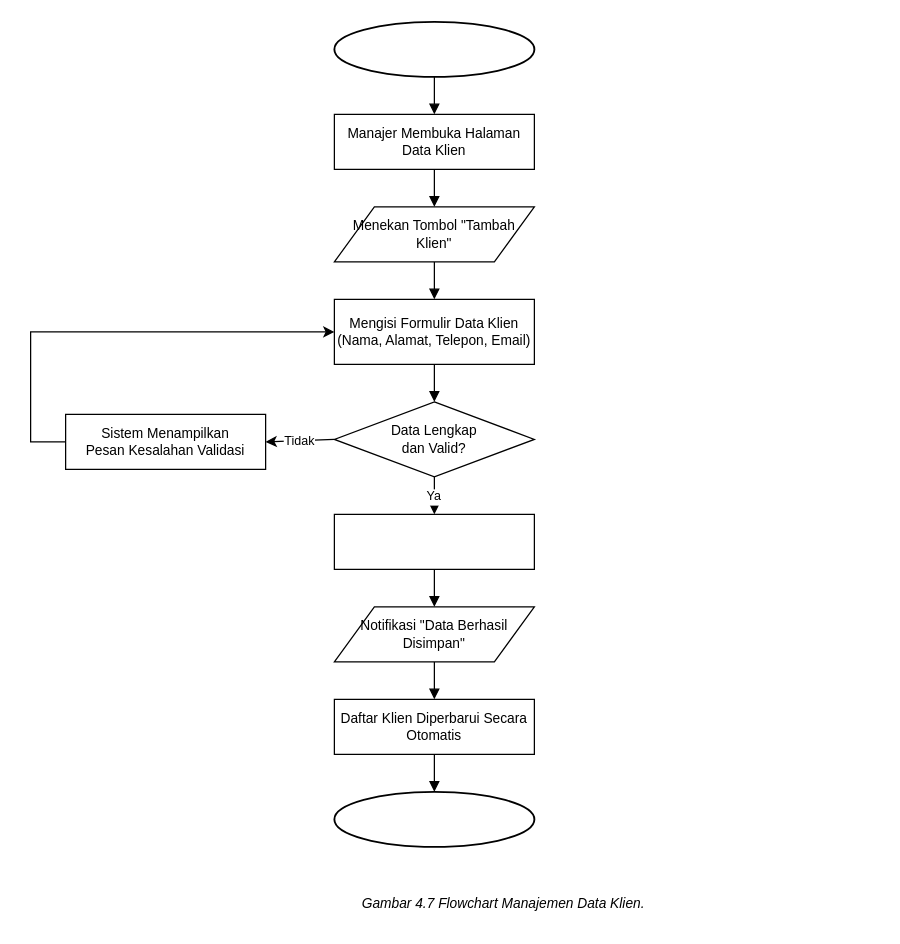
The diagram is 900 pixels wide and 944 high, and some of its shapes have lost their labels. Each missing label, with the box of its shape:
Mulai: (333, 20, 535, 77)
Selesai: (333, 790, 535, 847)
Sistem Menyimpan Data Klien ke Database: (333, 513, 534, 569)
